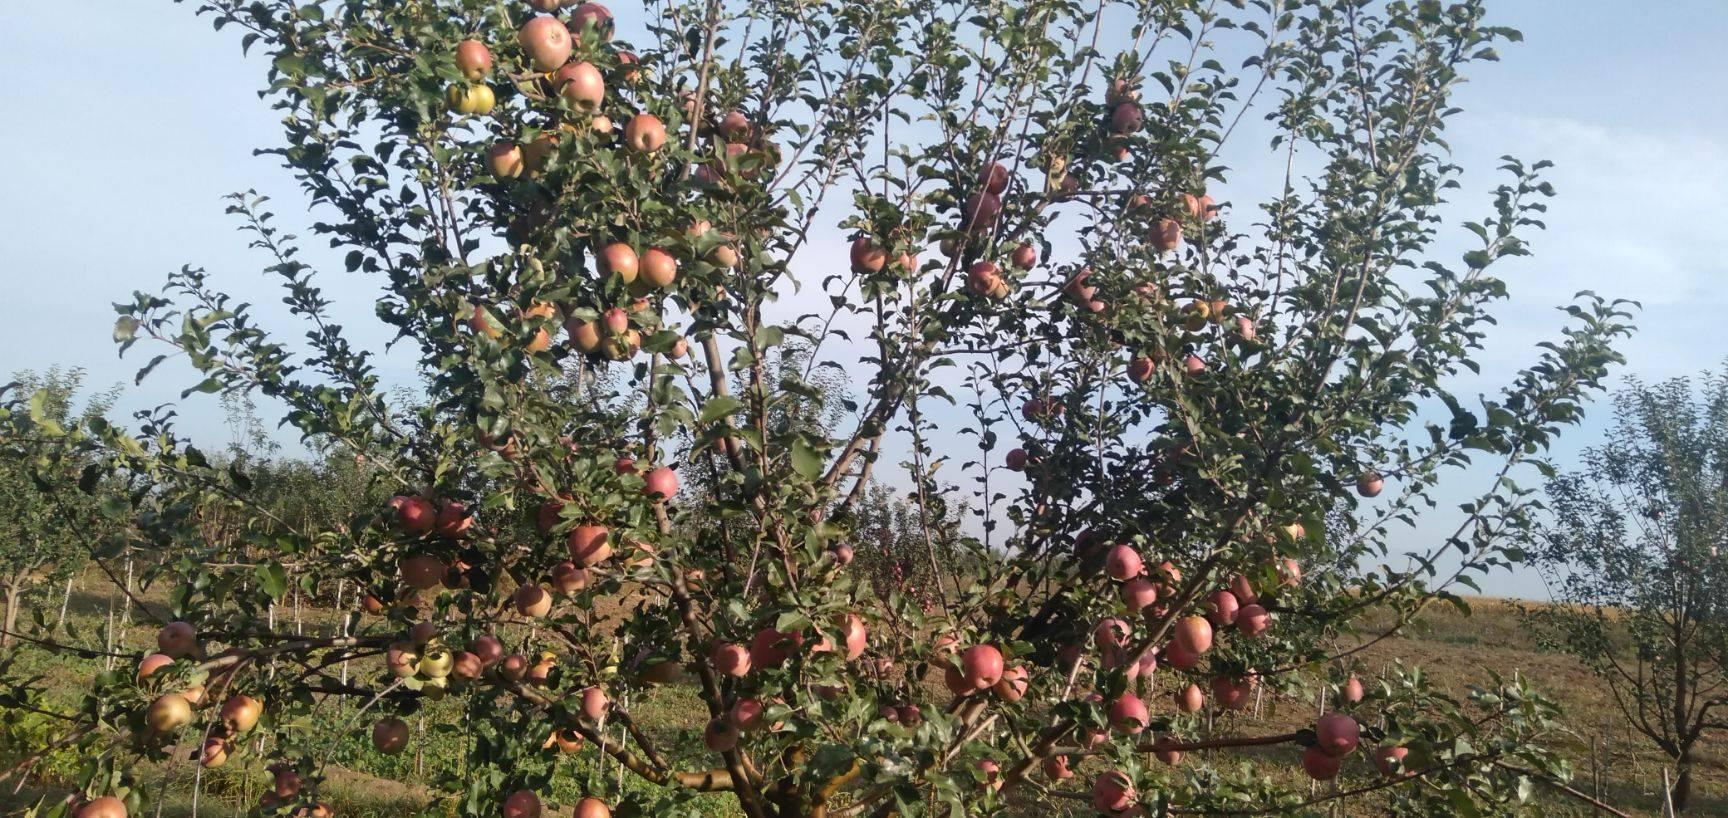apple: (519, 13, 575, 73), (852, 230, 914, 278), (554, 60, 606, 114), (959, 643, 1007, 689), (148, 692, 194, 734), (969, 258, 1011, 302), (220, 693, 264, 734), (568, 306, 606, 352), (457, 37, 495, 84), (392, 496, 435, 536), (1171, 613, 1212, 654), (600, 243, 637, 284), (850, 236, 889, 275), (641, 248, 679, 289), (1106, 543, 1144, 581), (1002, 661, 1032, 701), (646, 466, 676, 501)
